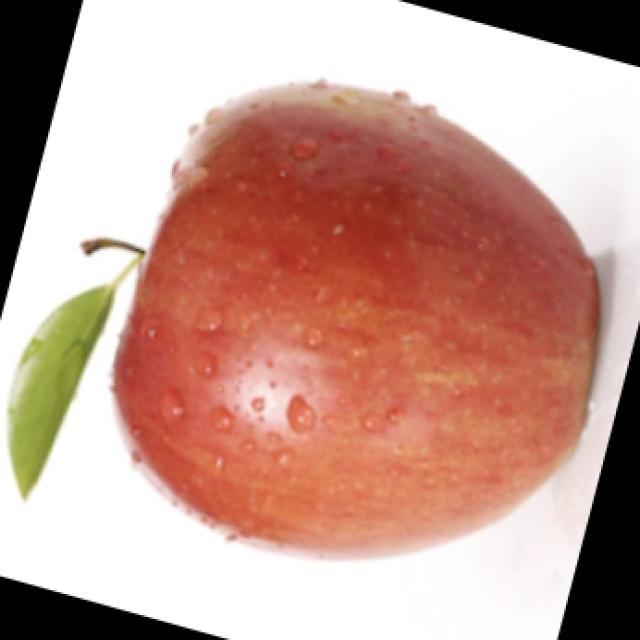Fresh Apple: (99, 56, 594, 532)
